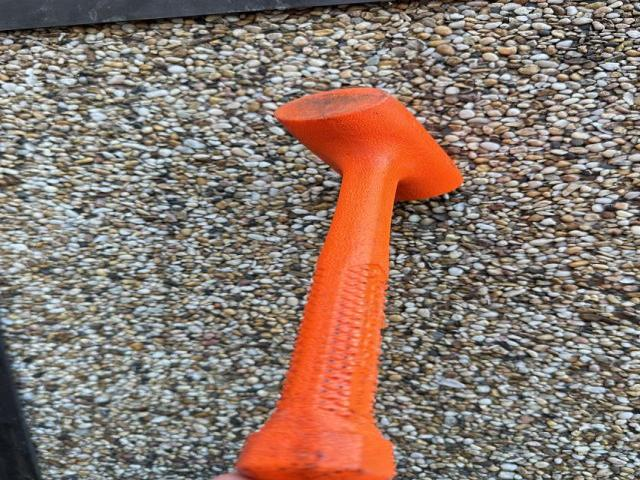hammer: (236, 85, 463, 480)
